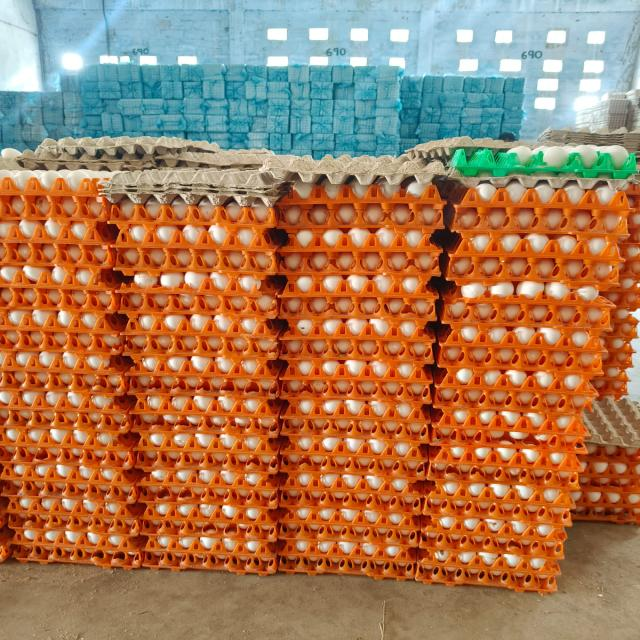egg_tray: (418, 353, 588, 591), (130, 308, 279, 573), (1, 290, 135, 564), (281, 202, 439, 400), (418, 411, 579, 590), (279, 399, 428, 578), (135, 400, 279, 573), (434, 289, 610, 415), (278, 185, 443, 316), (138, 430, 279, 573), (449, 182, 614, 302), (430, 368, 594, 485), (3, 428, 141, 566), (3, 430, 142, 566), (417, 480, 573, 590), (437, 283, 611, 378), (282, 400, 428, 513), (0, 288, 127, 412), (278, 471, 423, 579), (279, 470, 423, 578), (116, 223, 281, 317), (125, 314, 284, 410), (134, 400, 279, 503), (278, 185, 443, 275), (279, 229, 441, 319), (121, 272, 281, 362), (133, 394, 279, 492), (281, 397, 428, 491), (132, 395, 281, 486), (111, 196, 280, 276), (0, 309, 127, 414), (0, 309, 129, 411), (126, 312, 281, 395), (0, 265, 124, 368), (423, 462, 578, 544), (282, 398, 429, 484), (431, 373, 587, 453), (428, 409, 586, 486), (0, 181, 115, 285), (446, 229, 620, 296), (417, 514, 566, 590), (441, 284, 612, 350), (447, 180, 629, 242), (434, 345, 596, 414), (0, 350, 133, 432), (281, 416, 426, 491), (445, 232, 620, 294), (279, 226, 441, 292), (443, 290, 608, 354), (2, 426, 139, 500), (0, 183, 115, 268), (9, 495, 143, 567), (594, 184, 639, 398), (280, 357, 430, 420), (142, 504, 277, 574), (425, 459, 579, 520), (281, 416, 427, 478), (436, 327, 605, 380), (439, 283, 614, 333), (277, 181, 444, 233), (279, 504, 419, 565), (416, 534, 562, 592), (434, 362, 595, 413), (573, 398, 639, 522), (428, 435, 585, 486), (278, 274, 437, 324), (420, 505, 566, 559), (0, 426, 137, 483), (131, 396, 281, 448), (279, 275, 437, 324), (118, 271, 282, 318), (429, 400, 588, 448), (101, 170, 287, 211), (141, 519, 277, 575), (278, 525, 415, 580), (0, 351, 127, 410), (133, 415, 279, 466), (140, 468, 281, 520), (123, 314, 282, 360), (423, 478, 573, 526), (279, 356, 432, 403), (140, 468, 281, 519), (281, 317, 434, 364), (278, 241, 441, 284), (135, 375, 278, 424), (116, 246, 277, 289), (128, 354, 285, 398), (135, 427, 280, 474), (280, 434, 426, 480), (11, 518, 143, 568), (281, 406, 429, 450), (280, 273, 435, 315), (451, 144, 636, 179), (415, 549, 559, 593), (133, 389, 281, 430), (0, 308, 125, 356), (0, 349, 130, 395), (418, 535, 563, 576), (141, 500, 279, 543), (142, 531, 276, 575), (0, 426, 137, 469), (0, 170, 110, 222), (108, 195, 276, 229), (593, 277, 639, 397), (572, 442, 639, 524), (277, 540, 414, 580), (127, 249, 275, 286), (115, 244, 278, 277), (0, 218, 115, 264), (0, 264, 119, 307), (0, 369, 127, 409), (593, 290, 637, 399), (563, 186, 628, 254), (0, 240, 114, 278), (0, 387, 131, 420), (0, 279, 120, 315), (0, 402, 131, 433), (593, 308, 637, 398), (123, 271, 273, 297), (283, 398, 429, 424), (509, 144, 631, 174), (603, 261, 639, 341), (583, 398, 639, 447), (572, 487, 639, 524), (603, 313, 637, 380), (604, 307, 638, 369), (603, 309, 638, 368), (622, 184, 639, 260), (603, 276, 639, 310), (141, 429, 171, 467), (593, 368, 628, 399), (0, 481, 12, 562), (619, 240, 639, 281), (625, 183, 639, 232), (487, 370, 524, 388), (4, 429, 44, 445), (173, 430, 193, 454), (0, 526, 12, 562), (574, 192, 599, 206), (0, 483, 7, 531), (194, 431, 210, 450), (402, 230, 423, 241), (280, 204, 299, 216), (614, 208, 628, 223), (201, 505, 231, 512), (22, 289, 37, 303), (252, 419, 268, 432), (461, 415, 476, 427), (84, 508, 101, 518), (255, 428, 273, 437), (385, 206, 394, 224), (227, 202, 243, 212), (361, 480, 377, 490), (92, 356, 111, 364), (87, 362, 102, 372), (398, 205, 411, 216), (454, 210, 474, 217), (343, 480, 355, 490), (603, 262, 614, 272), (262, 205, 273, 215), (69, 486, 81, 495), (150, 503, 165, 510), (205, 282, 218, 290), (147, 360, 157, 370), (559, 354, 566, 368), (263, 378, 275, 386), (343, 482, 355, 490), (297, 557, 304, 570), (518, 392, 531, 399), (380, 229, 395, 235), (422, 379, 429, 391), (538, 529, 552, 535), (148, 443, 155, 455), (299, 282, 308, 291), (412, 367, 420, 377), (287, 350, 295, 360), (61, 505, 71, 513), (93, 485, 103, 493), (112, 299, 119, 310), (553, 534, 564, 541), (148, 509, 155, 520), (516, 327, 534, 331), (269, 375, 275, 385), (502, 282, 512, 288), (351, 230, 361, 236), (258, 501, 270, 506), (588, 354, 595, 362), (3, 361, 11, 368), (182, 287, 190, 294), (171, 512, 179, 519), (176, 433, 190, 437), (349, 279, 360, 284), (591, 265, 597, 274), (359, 402, 368, 408), (126, 249, 131, 259), (180, 511, 187, 518), (522, 522, 530, 528), (516, 327, 532, 330), (550, 283, 561, 287), (167, 460, 174, 466), (560, 230, 565, 238), (495, 352, 500, 360), (74, 222, 84, 226), (454, 410, 467, 413), (78, 274, 84, 280), (149, 353, 158, 357), (573, 380, 582, 384), (211, 205, 220, 209), (420, 366, 425, 373), (447, 374, 452, 381), (73, 295, 78, 302), (331, 230, 342, 233), (11, 290, 15, 298), (345, 400, 353, 404), (36, 447, 40, 455), (573, 376, 579, 381), (574, 437, 580, 442), (622, 312, 628, 317), (500, 447, 506, 452), (615, 258, 619, 265), (134, 382, 141, 386), (369, 234, 376, 238), (512, 340, 519, 344), (558, 210, 562, 217), (474, 345, 483, 348), (172, 356, 185, 358), (631, 327, 636, 332), (68, 364, 74, 368), (525, 586, 531, 590), (4, 446, 10, 450), (550, 352, 553, 359), (172, 519, 179, 522), (609, 258, 614, 262), (507, 342, 512, 346), (498, 210, 503, 214), (458, 416, 463, 420), (420, 398, 425, 402), (78, 229, 82, 234), (332, 284, 337, 288), (179, 462, 184, 466), (530, 380, 534, 385), (14, 448, 19, 452), (202, 433, 206, 438), (370, 310, 376, 313), (478, 185, 484, 188), (242, 278, 245, 284), (327, 440, 333, 443), (7, 301, 10, 307), (377, 233, 383, 236), (176, 446, 179, 452), (585, 268, 589, 272), (578, 188, 582, 192), (579, 398, 583, 402), (585, 212, 589, 216), (264, 515, 268, 519), (566, 438, 570, 442), (403, 323, 407, 327), (21, 352, 25, 356), (206, 200, 210, 204), (248, 403, 252, 407), (157, 510, 161, 514), (286, 560, 290, 564), (118, 495, 122, 499), (217, 514, 221, 518), (172, 383, 177, 386), (87, 272, 90, 277), (531, 350, 534, 355), (131, 334, 134, 339), (21, 303, 26, 306), (574, 461, 577, 466), (127, 496, 130, 501), (203, 443, 206, 448), (139, 452, 146, 454), (237, 416, 244, 418), (575, 185, 579, 188), (49, 190, 53, 193), (74, 183, 77, 187), (554, 364, 556, 370), (537, 360, 540, 364), (577, 290, 580, 294), (250, 546, 253, 550), (258, 462, 262, 465), (501, 448, 505, 451), (434, 454, 437, 458), (386, 530, 389, 534), (487, 330, 493, 332), (565, 520, 568, 524), (466, 518, 471, 520), (621, 193, 623, 198), (201, 367, 203, 372), (116, 349, 121, 351), (365, 564, 370, 566), (592, 391, 594, 396), (85, 495, 90, 497), (5, 462, 10, 464), (163, 437, 165, 442), (594, 247, 597, 250), (8, 492, 11, 495), (476, 352, 479, 355), (150, 455, 153, 458), (463, 208, 466, 211), (518, 183, 521, 186), (403, 327, 406, 330), (360, 285, 363, 288), (19, 358, 22, 361), (551, 587, 554, 590), (195, 209, 198, 212), (183, 513, 186, 516), (518, 509, 521, 512), (225, 513, 228, 516), (149, 458, 152, 461), (265, 361, 273, 362), (502, 353, 506, 355), (567, 300, 571, 302), (403, 350, 405, 354), (134, 354, 136, 358), (241, 228, 245, 230), (542, 588, 546, 590), (349, 404, 353, 406), (248, 286, 250, 290), (83, 518, 85, 522), (578, 380, 580, 384), (487, 300, 490, 302), (615, 249, 617, 252), (304, 230, 307, 232), (572, 394, 574, 397), (563, 293, 565, 296), (185, 351, 188, 353), (238, 417, 240, 420), (581, 433, 583, 436), (363, 402, 366, 404), (324, 393, 326, 396), (403, 217, 405, 220), (137, 346, 139, 349), (137, 296, 139, 299), (33, 345, 35, 348), (69, 302, 72, 304), (411, 532, 414, 534), (78, 524, 81, 526), (596, 351, 599, 353), (593, 338, 596, 340), (595, 290, 596, 295), (106, 264, 111, 265), (136, 205, 141, 206), (617, 310, 622, 311), (570, 209, 572, 211), (106, 272, 108, 274), (52, 283, 54, 285), (71, 269, 73, 271), (568, 418, 570, 420), (297, 402, 299, 404), (333, 195, 335, 197), (345, 404, 346, 408), (140, 282, 142, 284), (137, 300, 139, 302), (27, 254, 29, 256), (16, 362, 18, 364), (269, 421, 271, 423), (3, 385, 7, 386), (301, 400, 305, 401), (275, 483, 276, 487), (464, 232, 466, 234), (554, 330, 558, 331), (558, 274, 561, 275), (555, 203, 558, 204), (99, 407, 102, 408), (539, 480, 542, 481), (446, 516, 449, 517), (151, 521, 154, 522), (181, 427, 184, 428), (342, 224, 343, 227), (141, 359, 142, 362), (162, 283, 165, 284), (327, 407, 330, 408), (23, 249, 24, 252), (477, 448, 480, 449), (387, 185, 390, 186), (454, 396, 457, 397), (518, 332, 521, 333), (544, 263, 546, 264), (569, 211, 571, 212), (351, 243, 353, 244), (300, 231, 302, 232), (585, 342, 586, 344), (563, 300, 565, 301), (563, 296, 564, 298), (488, 185, 490, 186), (246, 509, 248, 510), (50, 370, 52, 371), (405, 398, 407, 399), (402, 214, 403, 216), (4, 278, 5, 280), (203, 365, 205, 366), (116, 526, 117, 528), (68, 256, 70, 257), (490, 330, 492, 331), (461, 374, 463, 375), (250, 209, 252, 210), (158, 204, 159, 206), (185, 204, 186, 206), (158, 437, 159, 439), (244, 425, 246, 426), (34, 354, 35, 356), (486, 447, 487, 449), (225, 404, 226, 406), (336, 489, 338, 490), (309, 284, 310, 286), (412, 535, 414, 536), (465, 291, 467, 292), (190, 511, 192, 512), (196, 438, 197, 440), (611, 276, 612, 277), (67, 278, 68, 279), (606, 187, 607, 188), (582, 290, 583, 291), (253, 549, 254, 550), (194, 498, 195, 499), (167, 381, 168, 382), (547, 585, 548, 586), (329, 416, 330, 417), (400, 363, 401, 364), (9, 280, 10, 281), (420, 418, 421, 419), (138, 545, 139, 546), (76, 509, 77, 510), (123, 507, 124, 508), (102, 505, 103, 506), (22, 296, 23, 297), (182, 402, 183, 403), (187, 480, 188, 481), (0, 560, 1, 561), (616, 314, 617, 315), (9, 385, 10, 386), (351, 487, 352, 488), (398, 558, 399, 559), (269, 485, 270, 486), (267, 483, 268, 484), (558, 394, 559, 395), (458, 407, 459, 408), (151, 465, 152, 466), (483, 254, 483, 255), (561, 252, 561, 252), (308, 232, 310, 232), (583, 345, 583, 346), (595, 336, 596, 336), (600, 299, 601, 299), (177, 449, 177, 450), (461, 538, 461, 539), (494, 520, 494, 521), (503, 519, 503, 521), (492, 518, 492, 520), (494, 210, 496, 210), (263, 483, 263, 486), (48, 352, 49, 352), (321, 478, 321, 479), (326, 476, 328, 476), (407, 336, 410, 336), (372, 321, 373, 321), (398, 212, 399, 212), (154, 390, 154, 390), (154, 384, 154, 386), (242, 288, 243, 288), (173, 285, 178, 285), (76, 514, 77, 514), (74, 507, 74, 508), (25, 338, 25, 339), (3, 290, 6, 290), (23, 258, 23, 259), (78, 254, 79, 254), (30, 301, 30, 301), (523, 529, 523, 530), (554, 330, 558, 330), (382, 281, 383, 281), (365, 230, 365, 231), (71, 410, 72, 410), (223, 210, 225, 210), (252, 210, 252, 211), (274, 420, 274, 421), (100, 390, 101, 390), (305, 423, 307, 423), (362, 572, 363, 572), (321, 565, 321, 566), (61, 467, 61, 468), (274, 488, 274, 490), (321, 279, 321, 279), (461, 402, 461, 403), (305, 194, 306, 194), (81, 491, 81, 492), (41, 485, 41, 486), (401, 538, 401, 540), (394, 532, 394, 532), (14, 454, 14, 454), (172, 489, 172, 490), (472, 328, 473, 328)
